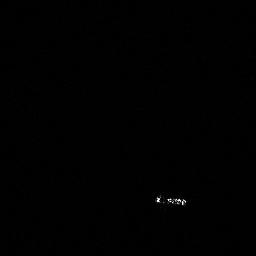ship: (155, 194, 187, 208)
